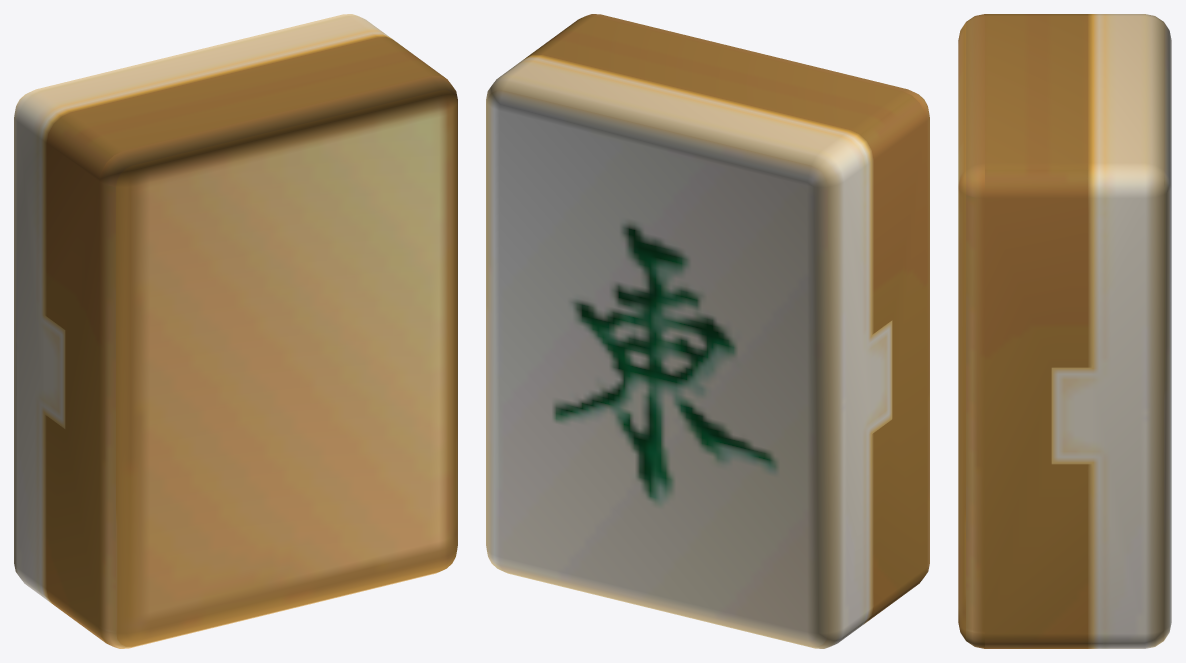
The model's file is Majiang.ico.obj.
3 views of the same model, side by side, from view 1: azimuth 30°, elevation 25°; view 2: azimuth 150°, elevation 25°; view 3: azimuth 270°, elevation 25° (orthographic). The views are drawn at different scales.
Bounding box in the file's own units: 1.41 × 1.88 × 0.75.
Materials: 1 (1 with a texture image).
